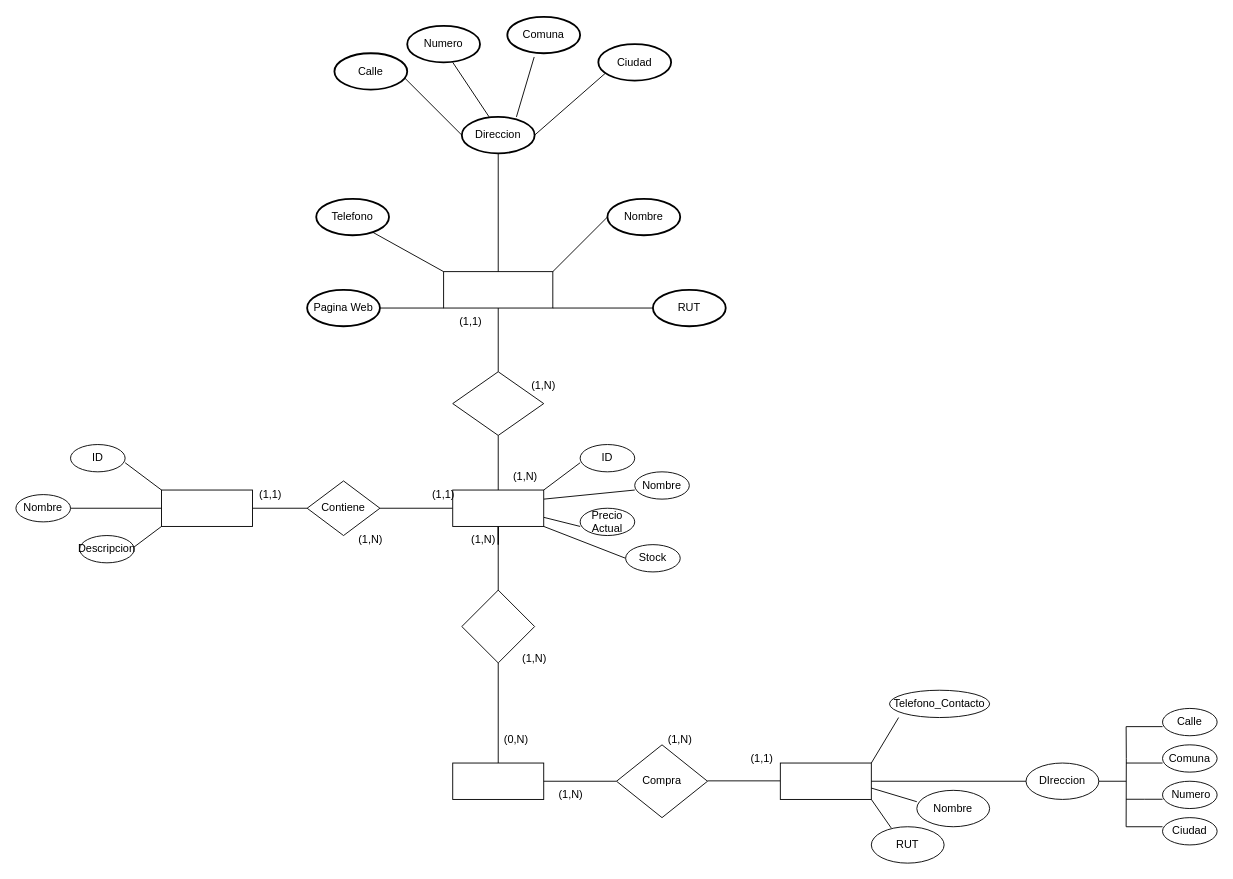
Image size: 1233x879. Some labels were removed from this diagram. The box of each missing label's shape, as (x1, y1, x2, y2) in pixels:
Categorias: (161, 489, 253, 526)
Cliente: (779, 762, 871, 799)
Forman: (461, 589, 535, 663)
Productos: (452, 489, 544, 526)
Provee: (452, 371, 544, 435)
Proveedor: (443, 271, 553, 308)
Ventas: (452, 762, 544, 799)
